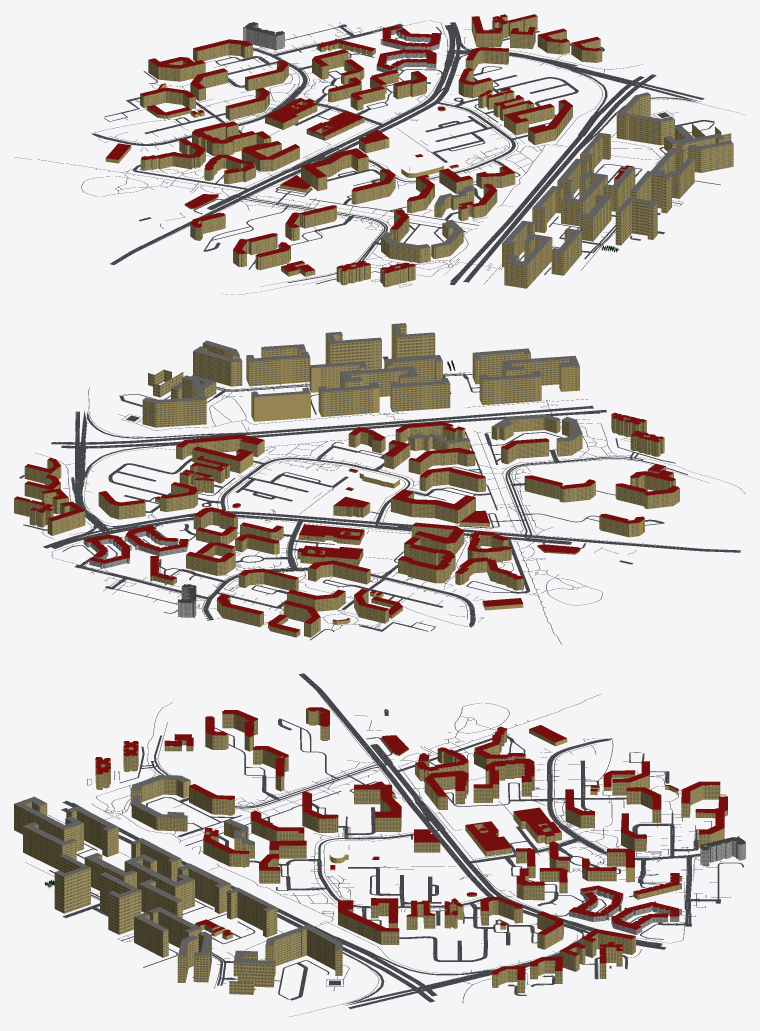
The model's file is osm3d.glb.
The picture shows the model from 3 angles, top to bottom: view 1: azimuth 30°, elevation 25°; view 2: azimuth 150°, elevation 25°; view 3: azimuth 270°, elevation 25°; orthographic projection. The views are drawn at different scales.
Parts seen in each view (by area): view 1: Plaster002, Windows, ASPHALT, RoofingTiles010, Concrete034, Plaster002.001, Windows.001; view 2: Plaster002, Windows, ASPHALT, RoofingTiles010, Concrete034, Plaster002.001, Windows.001; view 3: Plaster002, Windows, ASPHALT, RoofingTiles010, Concrete034, Plaster002.001, Windows.001.
Boxes of the visible parts, x1,y1,x2,y2 form: Plaster002: [105, 15, 733, 288]; Windows: [140, 16, 733, 287]; ASPHALT: [15, 22, 720, 285]; RoofingTiles010: [106, 14, 632, 273]; Concrete034: [108, 20, 745, 294]; Plaster002.001: [243, 23, 440, 72]; Windows.001: [243, 25, 440, 72]; Plaster002: [14, 324, 679, 637]; Windows: [14, 326, 679, 637]; ASPHALT: [19, 356, 740, 644]; RoofingTiles010: [14, 412, 679, 632]; Concrete034: [51, 323, 745, 621]; Plaster002.001: [83, 528, 196, 617]; Windows.001: [84, 529, 195, 617]; Plaster002: [14, 709, 727, 994]; Windows: [14, 709, 727, 993]; ASPHALT: [25, 673, 743, 1008]; RoofingTiles010: [95, 707, 727, 979]; Concrete034: [14, 688, 694, 1016]; Plaster002.001: [569, 837, 745, 934]; Windows.001: [569, 841, 745, 934].
Size of the model in its own units: 1402 by 69.98 by 1262.
Materials: 21 (21 with a texture image).
